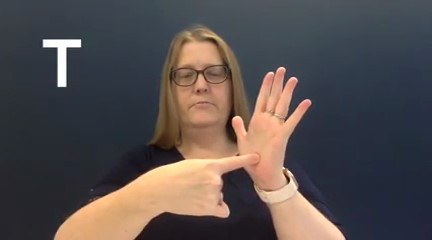T: (161, 64, 313, 220)
